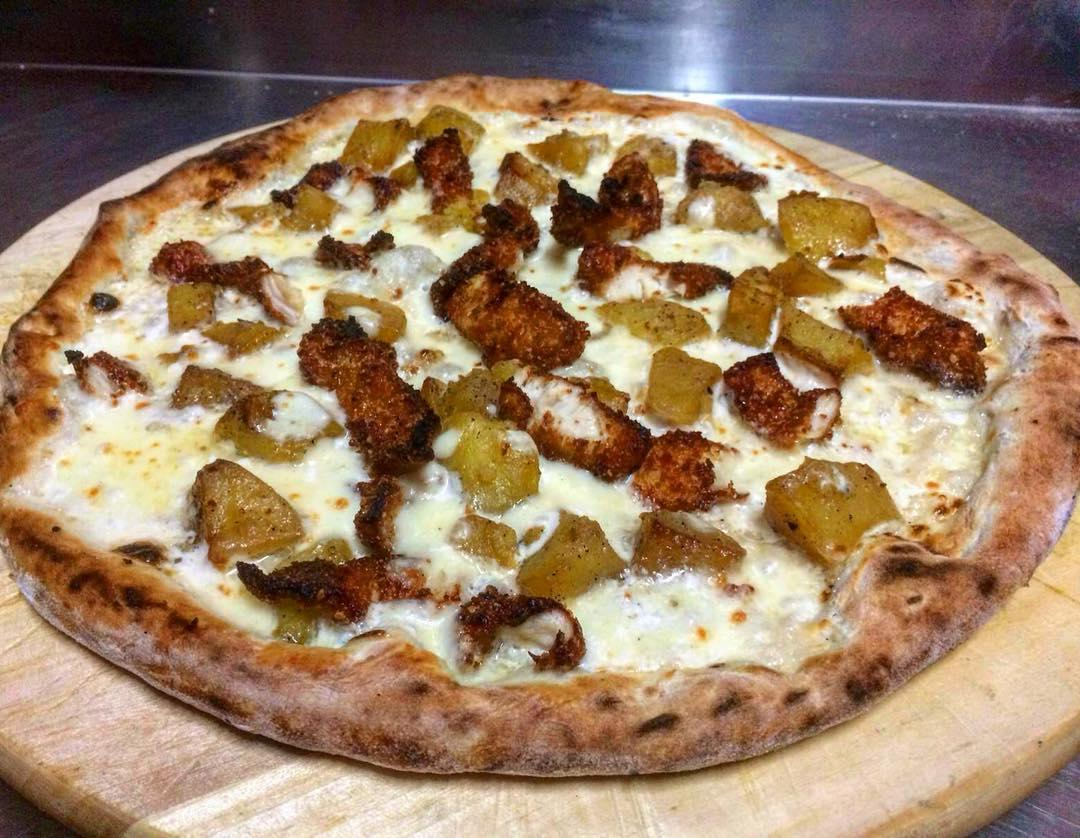Chicken: (328, 322, 432, 463), (442, 270, 583, 363), (725, 343, 839, 442), (867, 290, 980, 385), (534, 374, 640, 474), (559, 155, 658, 243), (160, 246, 292, 302), (252, 562, 441, 601), (641, 428, 725, 508), (447, 207, 535, 269), (690, 138, 769, 187), (420, 139, 472, 207), (356, 479, 400, 549), (462, 592, 502, 660)
Pineapple: (765, 459, 900, 559), (204, 462, 298, 553), (515, 511, 612, 596), (630, 508, 749, 577), (449, 414, 534, 504), (778, 195, 879, 252), (650, 348, 717, 424), (593, 299, 706, 342), (674, 188, 767, 230), (728, 266, 775, 344), (337, 117, 407, 168), (768, 252, 846, 296), (291, 185, 336, 229), (169, 284, 214, 326)
Pizza: (0, 77, 1080, 777)
